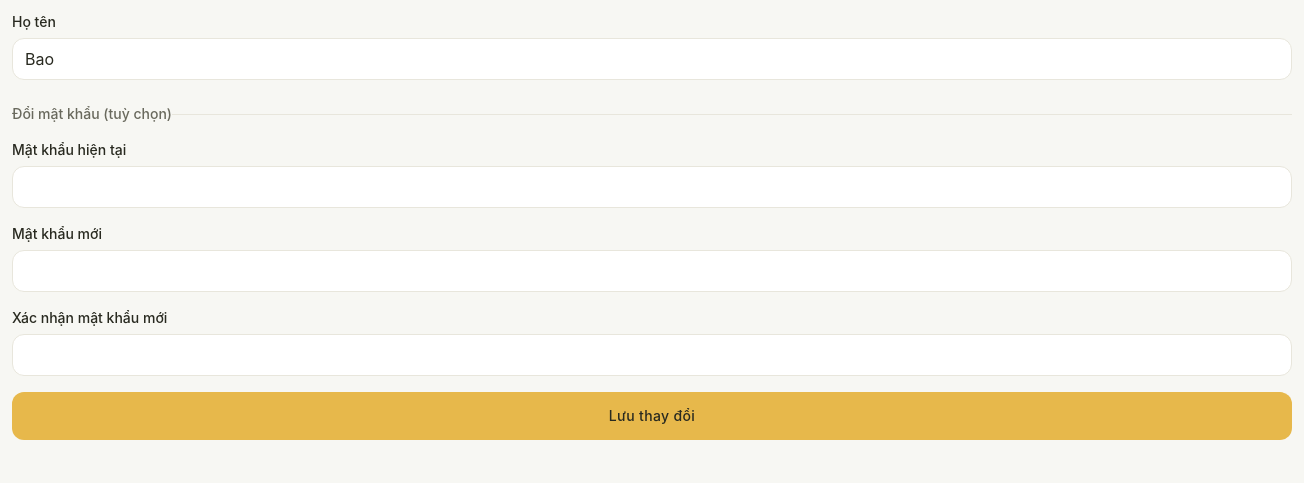
Test: ProfileForm › requires the current password when changing password
In the password field labelled "Mật khẩu mới": (652, 271) [12,250,1292,292], type "new-password-123"
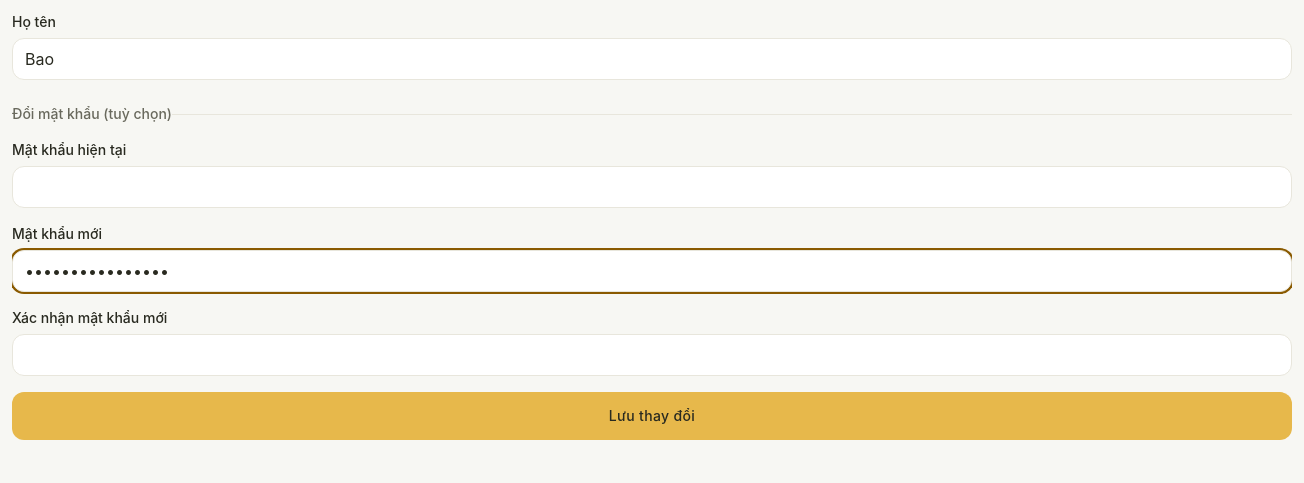
In the password field labelled "Xác nhận mật khẩu mới": (652, 355) [12,334,1292,376], type "new-password-123"
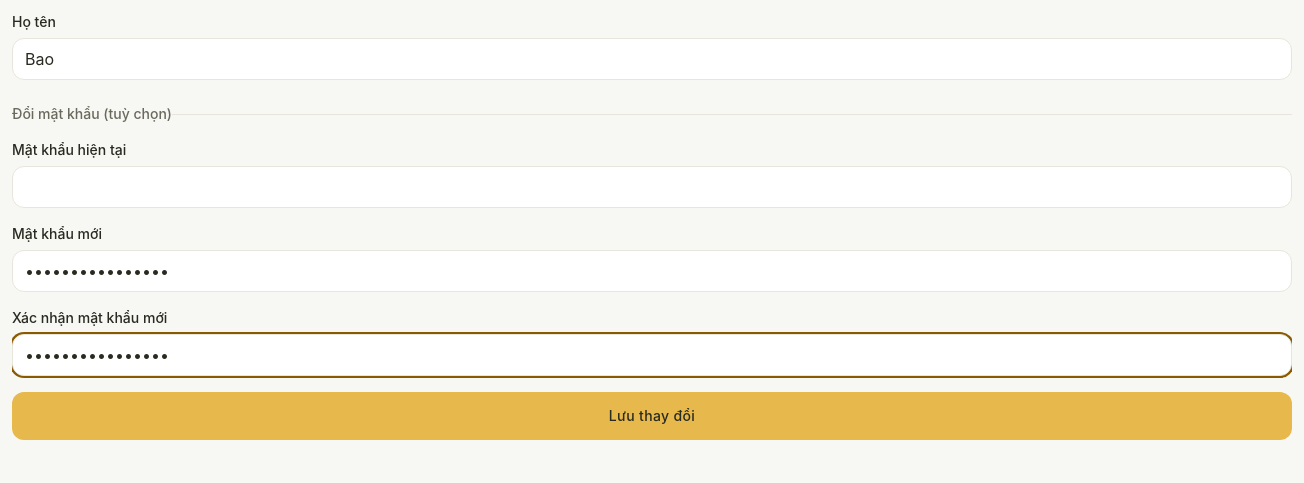
Click the button "Lưu thay đổi": (652, 416) [12,392,1292,440]
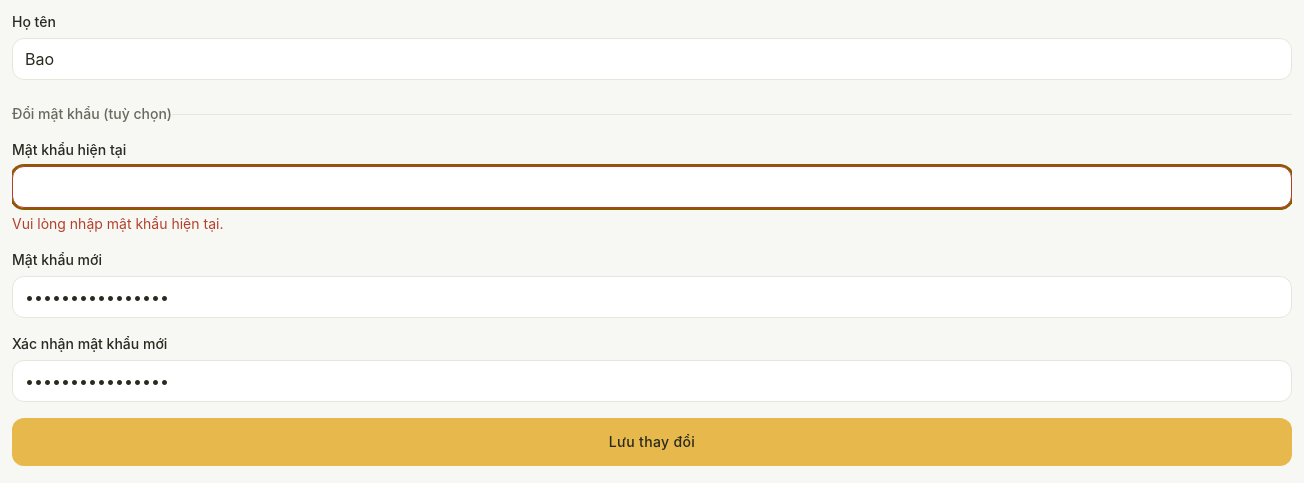
Check: the text "Vui lòng nhập mật khẩu hiện tại." is shown, box [12,215,223,232]
